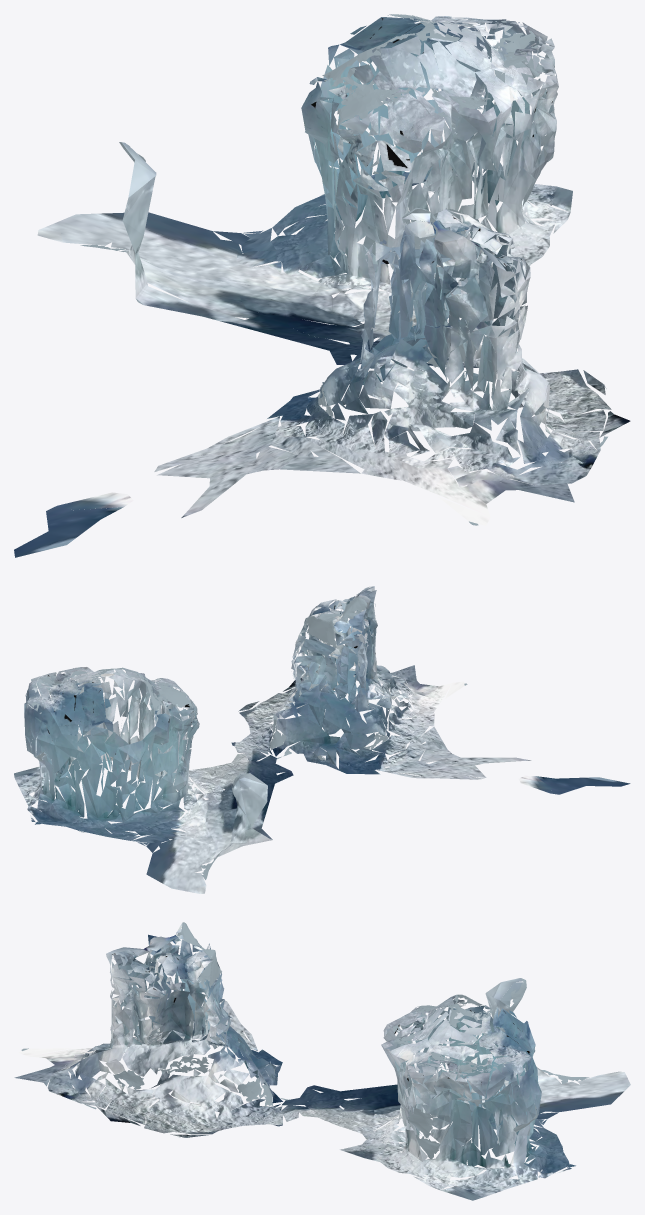
File: iceformations.glb
3 renders of one model, top to bottom at view 1: azimuth 30°, elevation 25°; view 2: azimuth 150°, elevation 25°; view 3: azimuth 270°, elevation 25°, orthographic. The views are drawn at different scales.
Visible parts, largest first — view 1: Object_4, Object_5, Object_3, Object_2, Object_6; view 2: Object_4, Object_5, Object_3, Object_2, Object_6; view 3: Object_3, Object_4, Object_2, Object_5, Object_6.
Boxes of the visible parts, <box> form: Object_4: <box>37,17,606,479</box>; Object_5: <box>57,16,606,517</box>; Object_3: <box>80,14,607,525</box>; Object_2: <box>271,14,611,480</box>; Object_6: <box>14,22,630,557</box>; Object_4: <box>14,586,414,893</box>; Object_5: <box>20,590,551,839</box>; Object_3: <box>25,596,484,879</box>; Object_2: <box>24,599,434,836</box>; Object_6: <box>31,586,630,852</box>; Object_3: <box>21,922,589,1172</box>; Object_4: <box>66,935,630,1200</box>; Object_2: <box>112,955,569,1178</box>; Object_5: <box>29,929,537,1189</box>; Object_6: <box>14,923,575,1190</box>.
Bounding box in the file's own units: 6.36 × 1.88 × 6.26.
Materials: 7 (7 with a texture image).
